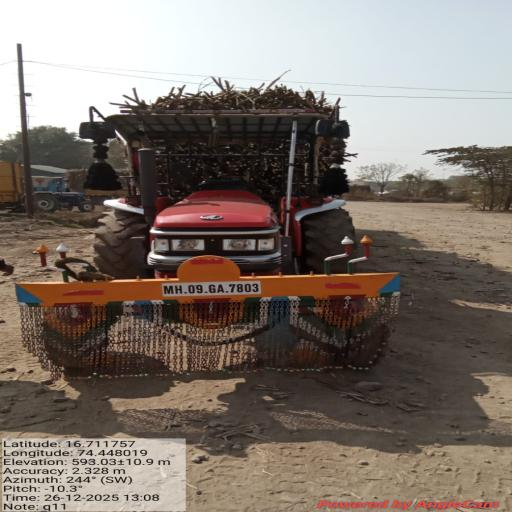number_plate: (148, 280, 283, 307)
